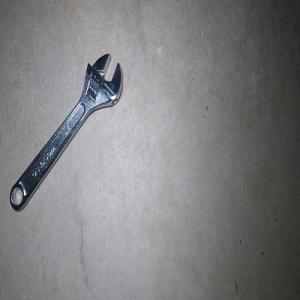Wrench: (9, 52, 122, 211)
